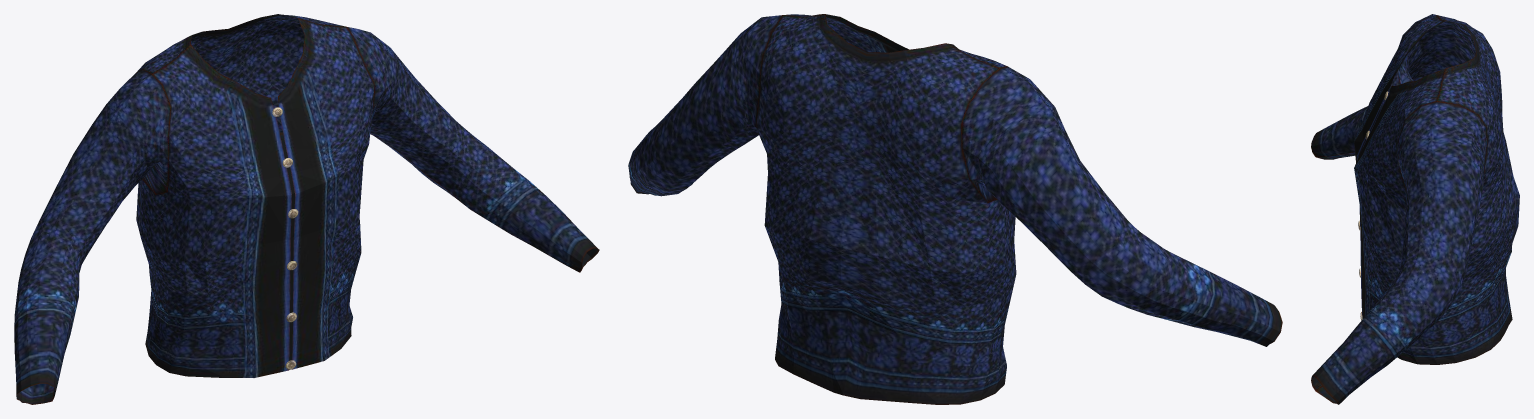
The model's file is mhw_mindfront_lusekofta.glb.
The picture shows the model from 3 angles, left to right: view 1: azimuth 30°, elevation 25°; view 2: azimuth 150°, elevation 25°; view 3: azimuth 270°, elevation 25°; orthographic projection. The views are drawn at different scales.
Parts seen in each view (by area): view 1: mhw_mindfront_lusekofta; view 2: mhw_mindfront_lusekofta; view 3: mhw_mindfront_lusekofta.
Part boxes in pixels (bbox=[...]): mhw_mindfront_lusekofta: bbox=[14, 14, 599, 404]; mhw_mindfront_lusekofta: bbox=[628, 14, 1282, 404]; mhw_mindfront_lusekofta: bbox=[1311, 14, 1519, 404].
Size of the model in its own units: 1.1 by 0.5588 by 0.3782.
1 material, 1 textured.
